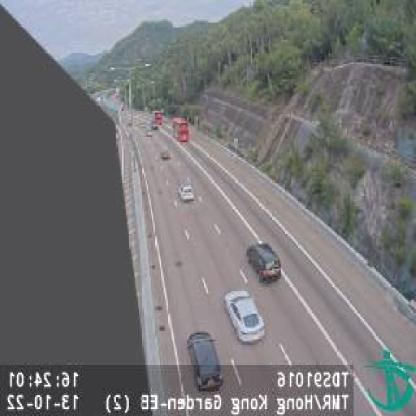Bus: (172, 118, 188, 144)
Car: (224, 288, 266, 342), (188, 332, 224, 394), (245, 241, 280, 283), (177, 180, 195, 200), (160, 148, 171, 163)
